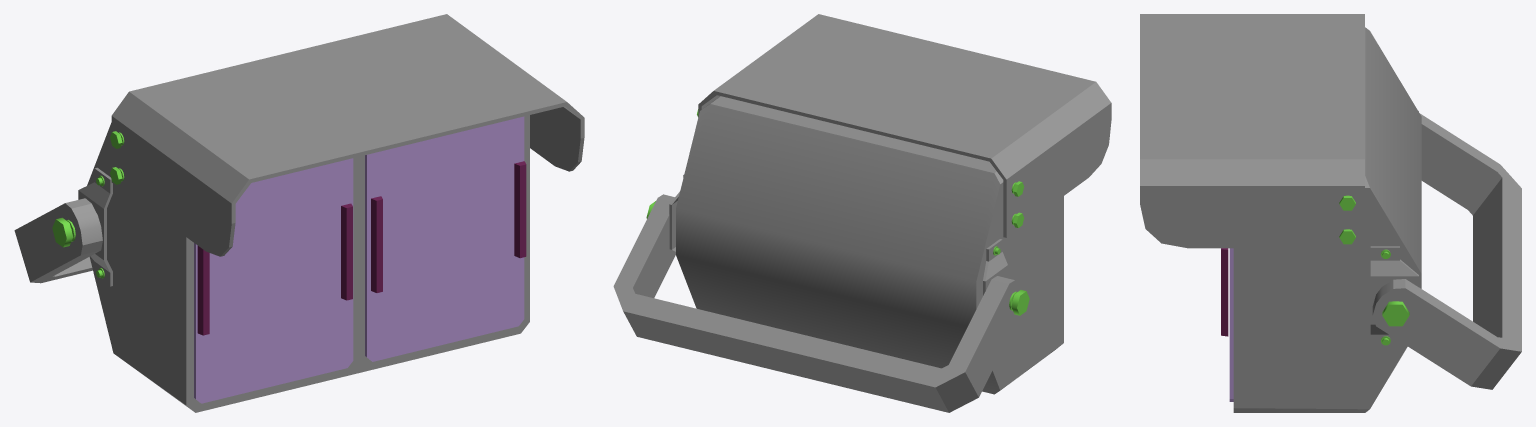
File: SkillObject_Lighting.FBX
3 views of the same model, side by side, from view 1: azimuth 30°, elevation 25°; view 2: azimuth 150°, elevation 25°; view 3: azimuth 270°, elevation 25° (orthographic). The views are drawn at different scales.
Visible parts, largest first — view 1: Object007, Object008, Object009, Box001; view 2: Object007, Box001; view 3: Object007, Box001, Object008, Object009.
Boxes of the visible parts, left/top/right/bottom form: Object007: left=14, top=14, right=584, bottom=412; Object008: left=194, top=116, right=524, bottom=403; Object009: left=197, top=161, right=526, bottom=335; Box001: left=52, top=131, right=124, bottom=278; Object007: left=613, top=14, right=1111, bottom=412; Box001: left=646, top=109, right=1029, bottom=315; Object007: left=1140, top=14, right=1521, bottom=412; Box001: left=1339, top=195, right=1409, bottom=345; Object008: left=1229, top=248, right=1233, bottom=401; Object009: left=1221, top=248, right=1228, bottom=336.
Bounding box in the file's own units: 210 × 127 × 175.
